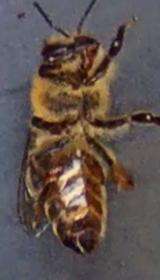varroa_mite: (40, 158, 66, 180)
